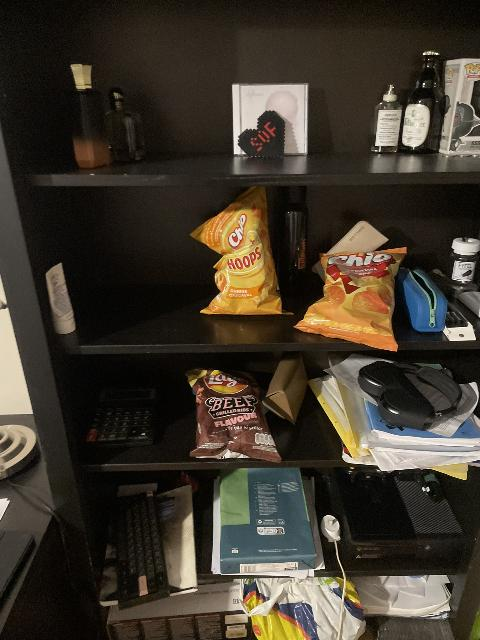Chio Cascaval 125g: (294, 242, 410, 350)
Chio Hula Hoops Cheese 70g: (191, 186, 284, 317)
Lays Beef Grilled Ribs 125g: (185, 367, 275, 461)
